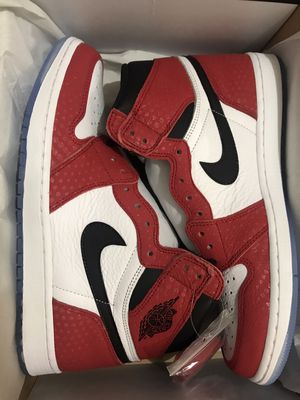Air Jordan 1 Spiderman: (9, 24, 226, 385), (97, 30, 300, 391)
